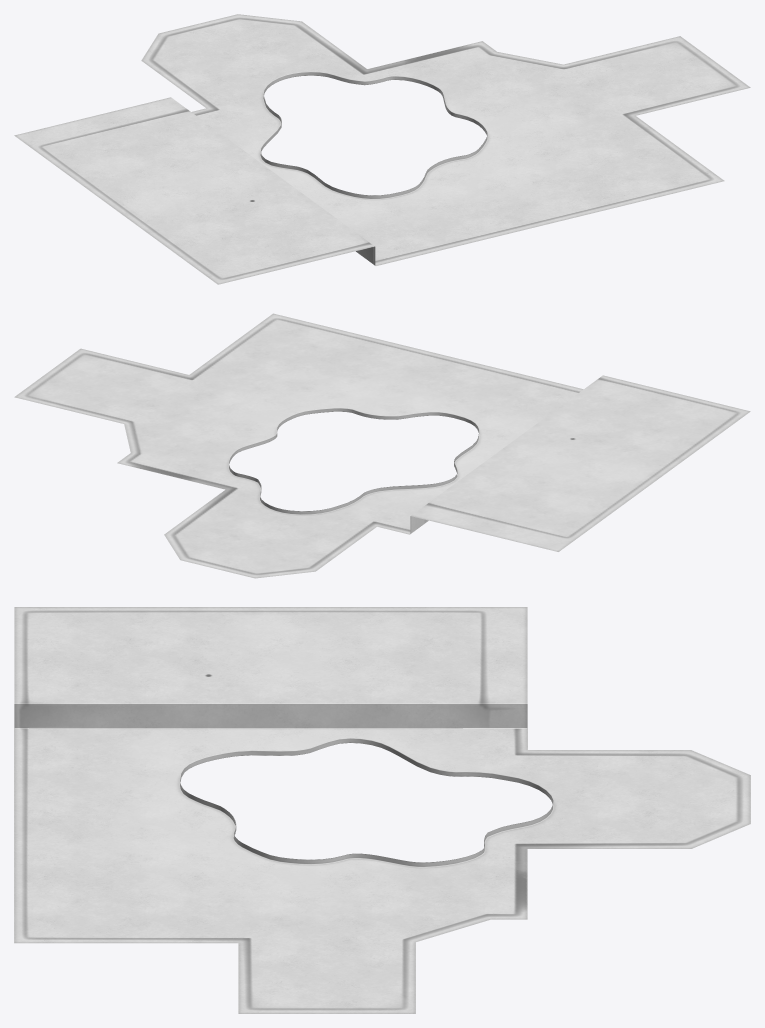
Rendered from ceil.glb.
3 views of the same model, one above another, from view 1: azimuth 30°, elevation 25°; view 2: azimuth 150°, elevation 25°; view 3: azimuth 270°, elevation 25° (orthographic). The views are drawn at different scales.
Parts seen in each view (by area): view 1: ceil; view 2: ceil; view 3: ceil.
Boxes of the visible parts, x1,y1,x2,y2 form: ceil: (14,14,750,284); ceil: (14,313,750,578); ceil: (14,607,750,1013).
Bounding box in the file's own units: 16.17 × 0.4933 × 13.19.
Materials: 1 (1 with a texture image).
